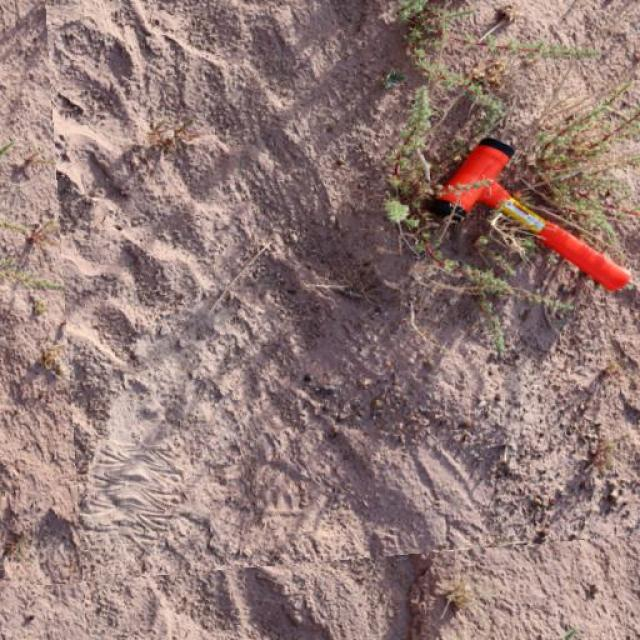mallet: (430, 135, 635, 294)
